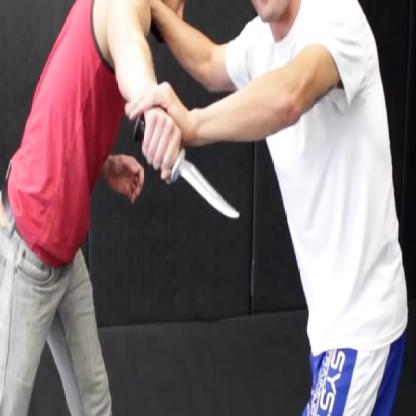knife: (127, 109, 243, 231)
